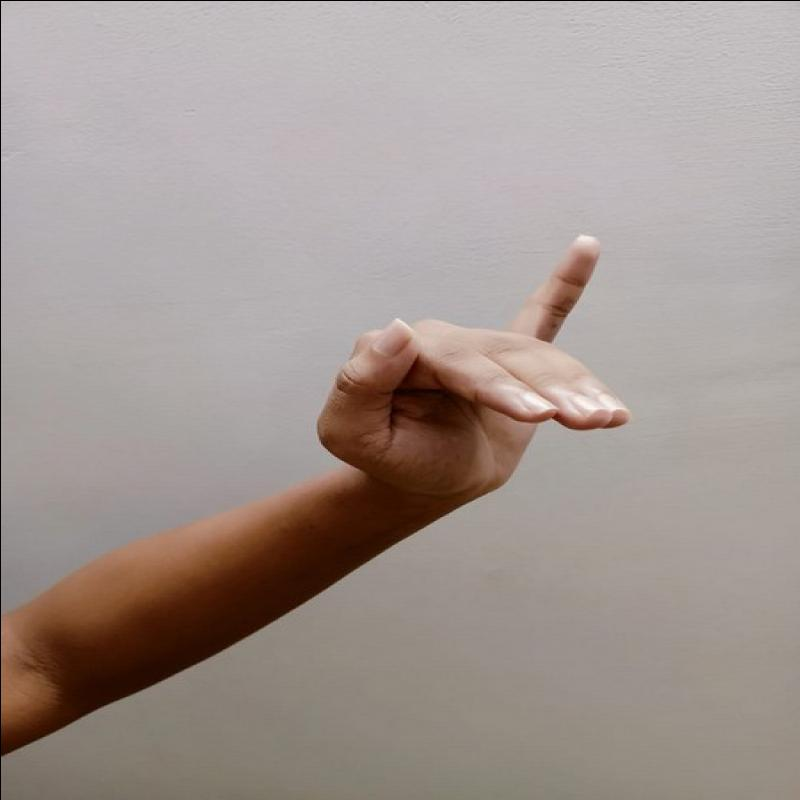Kartharee Mukham: (308, 223, 637, 524)
